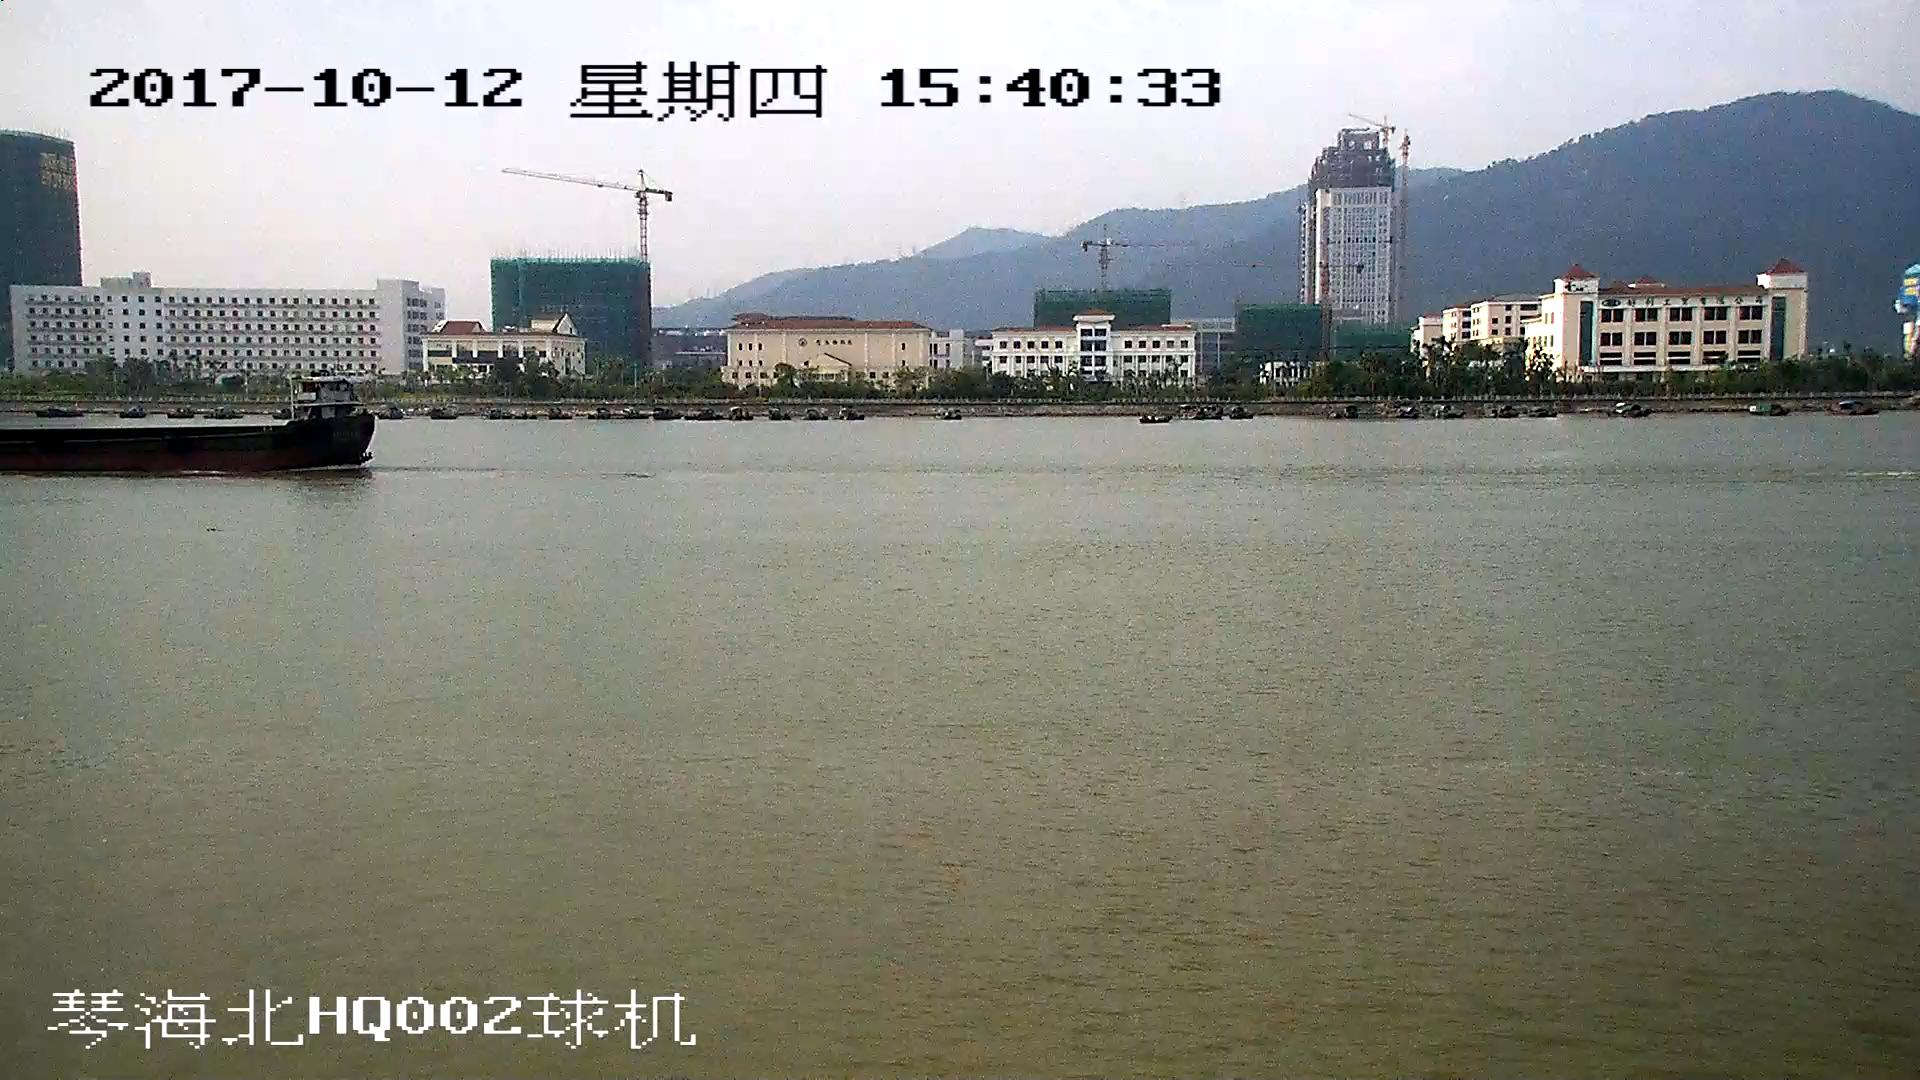general cargo ship: (1, 375, 371, 481)
